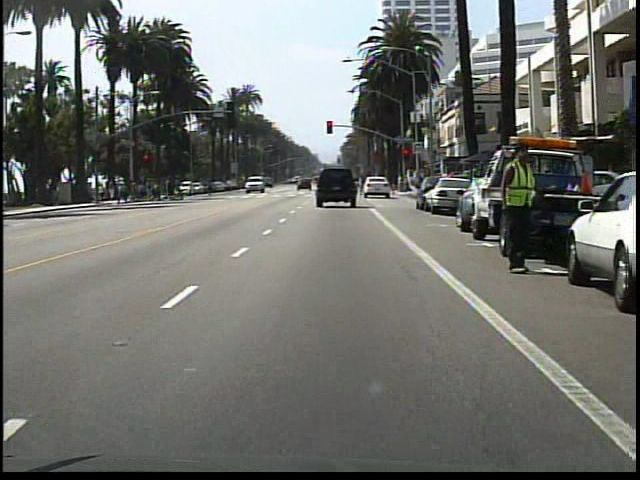person: (491, 137, 540, 276), (201, 172, 220, 201)
